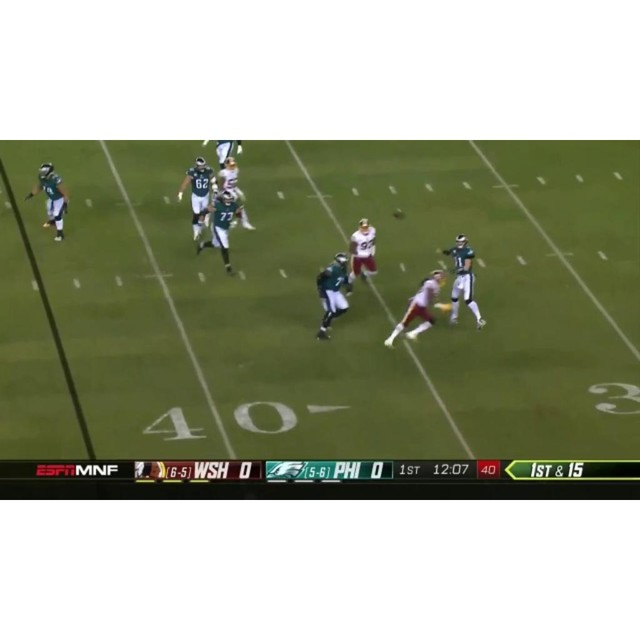american-football-player: (196, 188, 254, 276), (383, 270, 447, 349), (439, 233, 488, 331), (312, 254, 355, 340), (24, 163, 70, 242), (176, 157, 218, 242), (345, 218, 380, 291), (207, 141, 243, 170)
